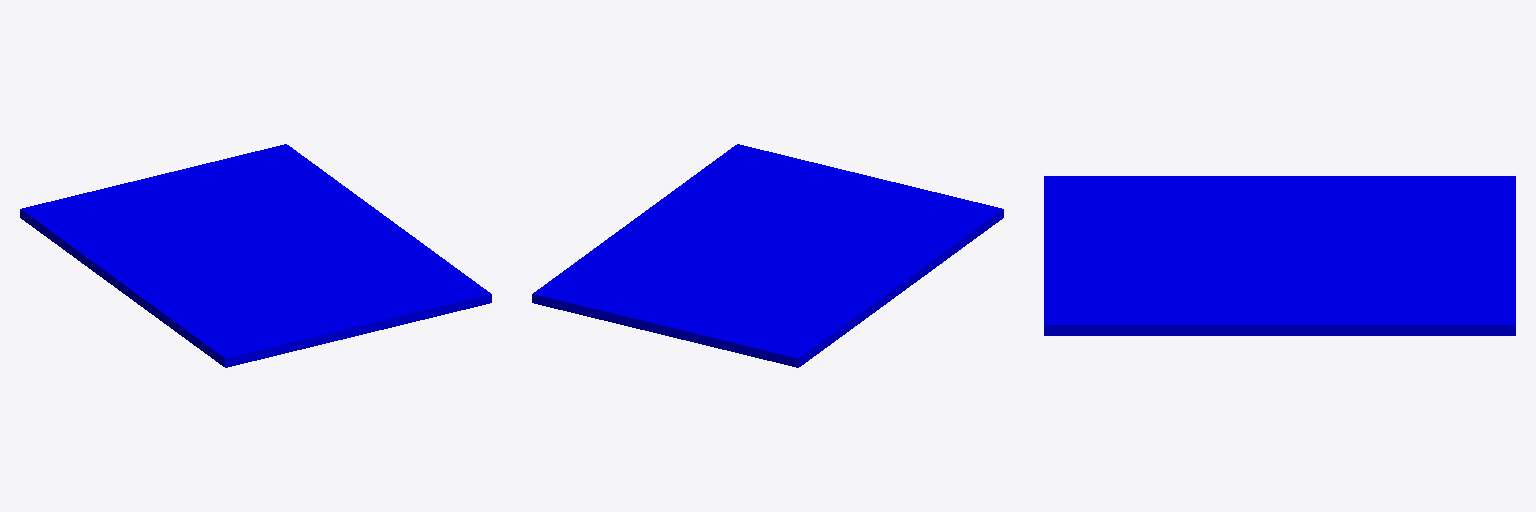
robot.urdf — tray.urdf:
<?xml version="1.0" ?>
<robot name="tray.urdf">
  <link name="base_link">
    <contact>
      <lateral_friction value="0.12"/>
      <inertia_scaling value="1.0"/>
    </contact>
    <inertial>
      <origin rpy="0 0 0" xyz="0 0 0"/>
       <mass value="0.00"/>
       <inertia ixx="0.000166666667" ixy="0" ixz="0" iyy="0.000166666667" iyz="0" izz="0.000166666667"/>
    </inertial>
    <visual>
      <origin rpy="0 0 0" xyz="0 0 0"/>
      <geometry>
        <box size="0.3 0.4 0.01" />
      </geometry>
       <material name="white">
        <color rgba="0 0 1 1"/>
      </material>
    </visual>
    <collision>
      <origin rpy="0 0 0" xyz="0 0 0"/>
      <geometry>
        <box size="0.2 0.3 0.01"/>
      </geometry>
    </collision>
  </link>
</robot>

--- Facts derived from the render (not from the file) ---
The picture shows the robot from 3 angles, left to right: view 1: azimuth 30°, elevation 25°; view 2: azimuth 150°, elevation 25°; view 3: azimuth 270°, elevation 25°; orthographic projection.
Robot: tray.urdf — 1 links, 0 joints (none); root link base_link; default pose: every joint at zero.
Links seen in each view (by area): view 1: base_link; view 2: base_link; view 3: base_link.
Link boxes in pixels (x1,y1,x2,y2): base_link: (20, 144, 491, 367); base_link: (532, 144, 1003, 367); base_link: (1044, 176, 1515, 335).
Bounding box of the posed robot: 0.3 × 0.4 × 0.01 m (x, y, z).
Geometry: primitives only (box / cylinder / sphere), no mesh files.